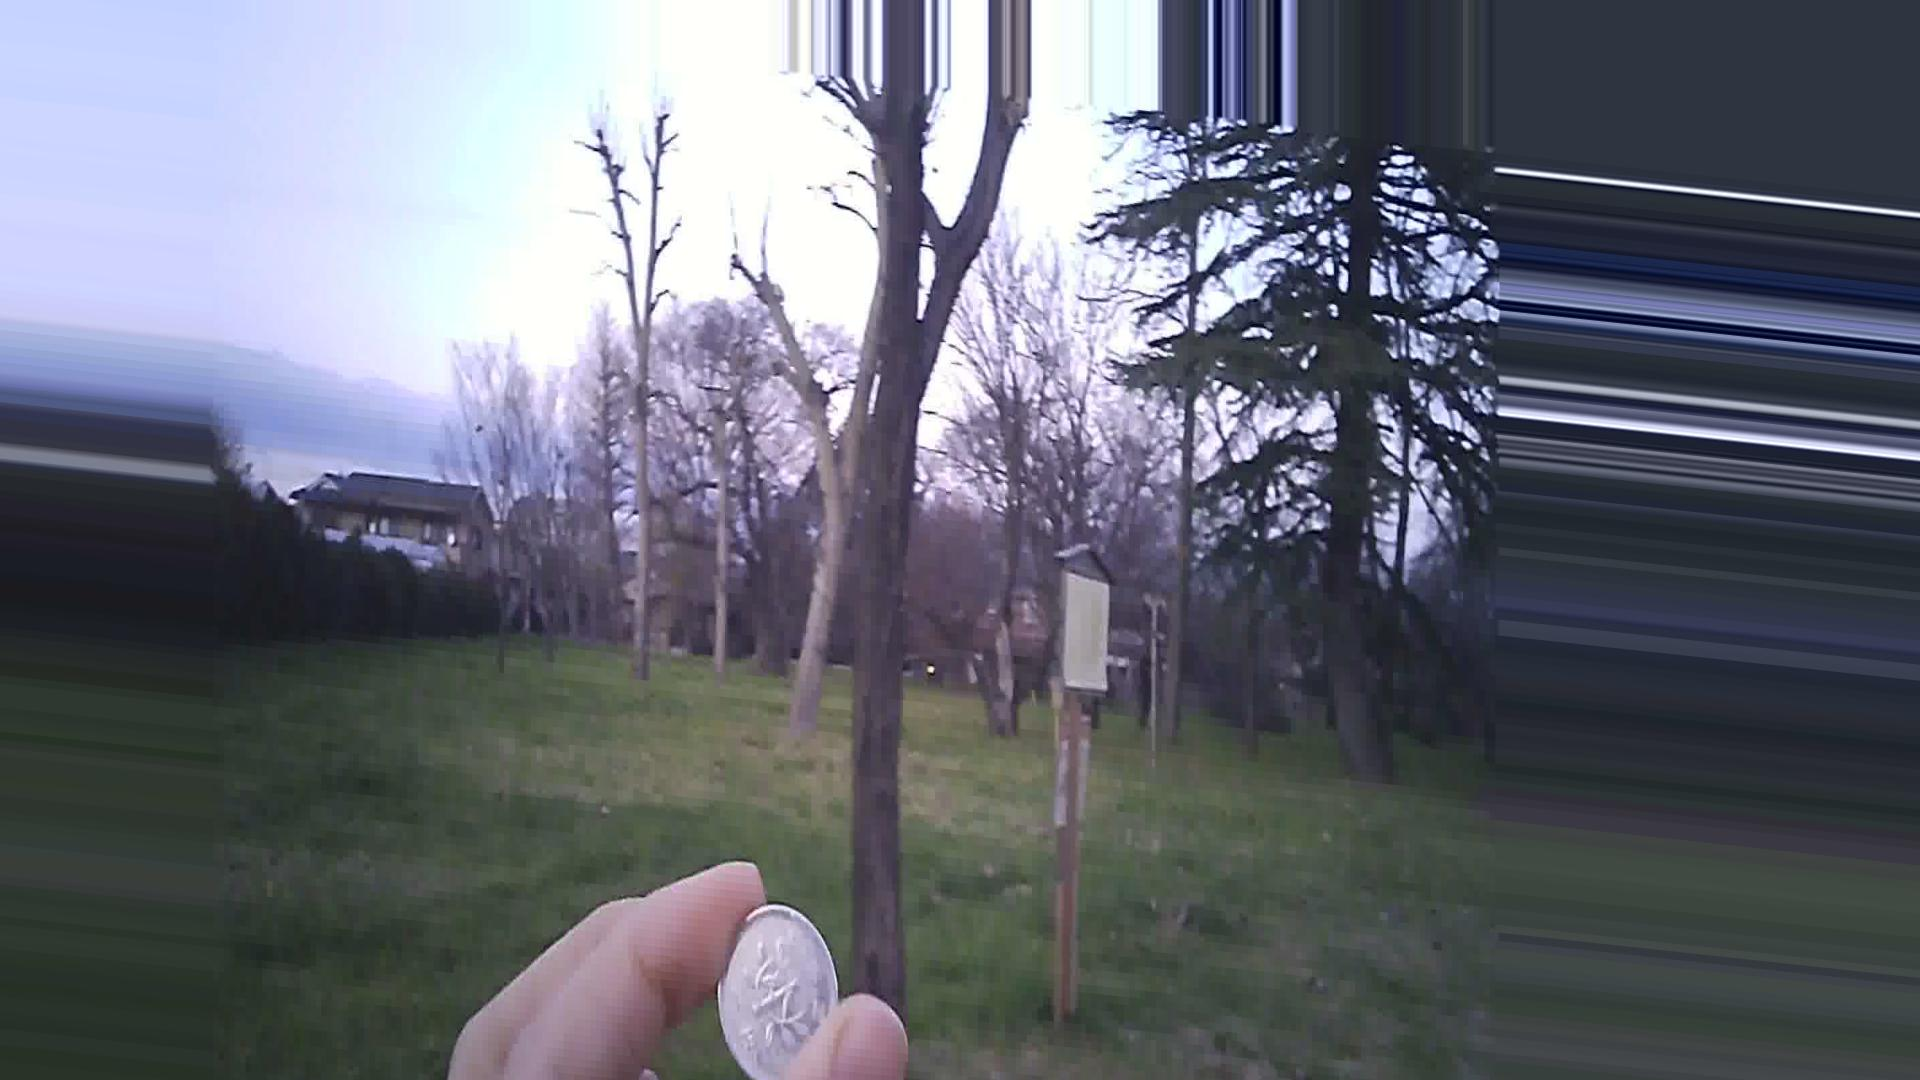1 Yen: (698, 898, 852, 1079)
